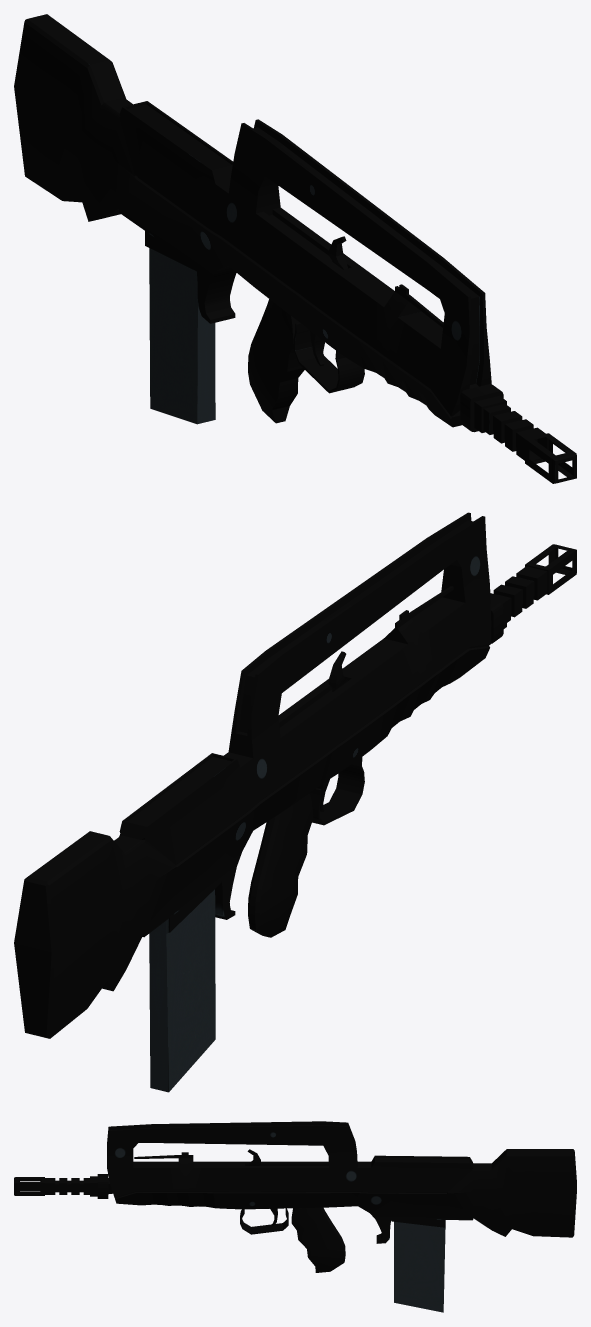
File: rifle.glb
The picture shows the model from 3 angles, top to bottom: view 1: azimuth 30°, elevation 25°; view 2: azimuth 150°, elevation 25°; view 3: azimuth 270°, elevation 25°; orthographic projection. The views are drawn at different scales.
Parts seen in each view (by area): view 1: Famas F1 Low Poly; view 2: Famas F1 Low Poly; view 3: Famas F1 Low Poly.
Part boxes in pixels (x1,y1,x2,y2): Famas F1 Low Poly: (14,14,576,483); Famas F1 Low Poly: (14,512,576,1092); Famas F1 Low Poly: (14,1121,576,1312).
Bounding box in the file's own units: 0.0398 × 0.3174 × 0.8668.
1 material, 1 textured.
